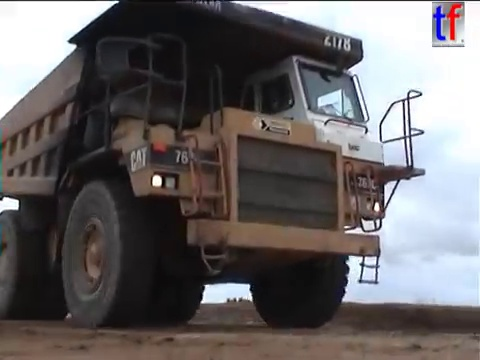truck: (1, 1, 430, 334)
